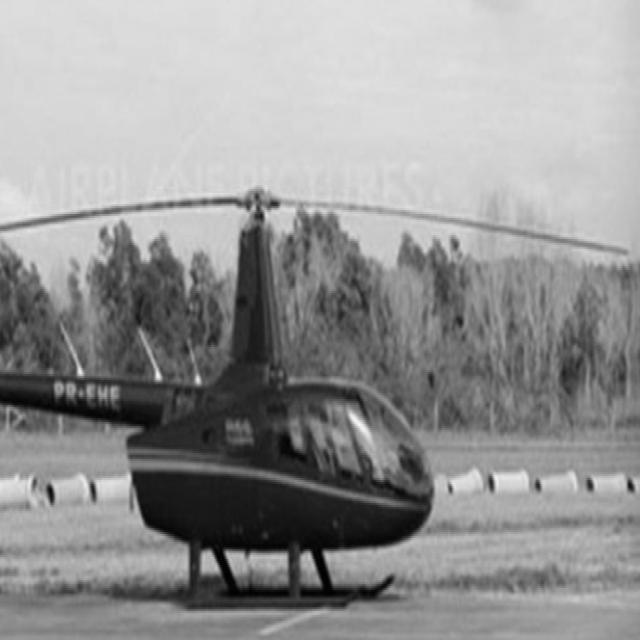helicopter: (1, 47, 512, 640)
